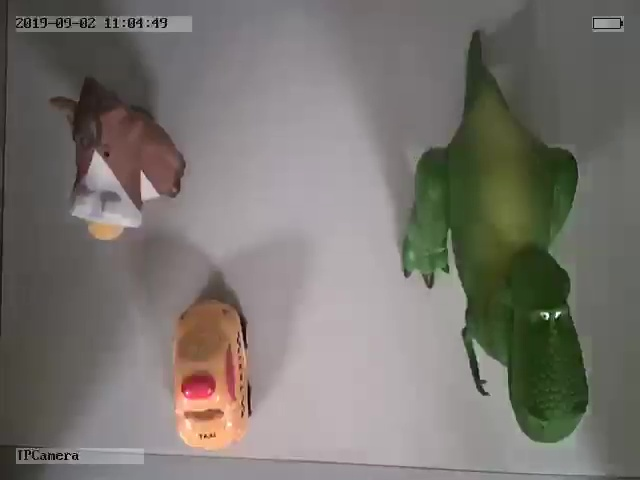car: (168, 300, 254, 450)
horse: (48, 76, 186, 240)
rex: (402, 49, 589, 442)
